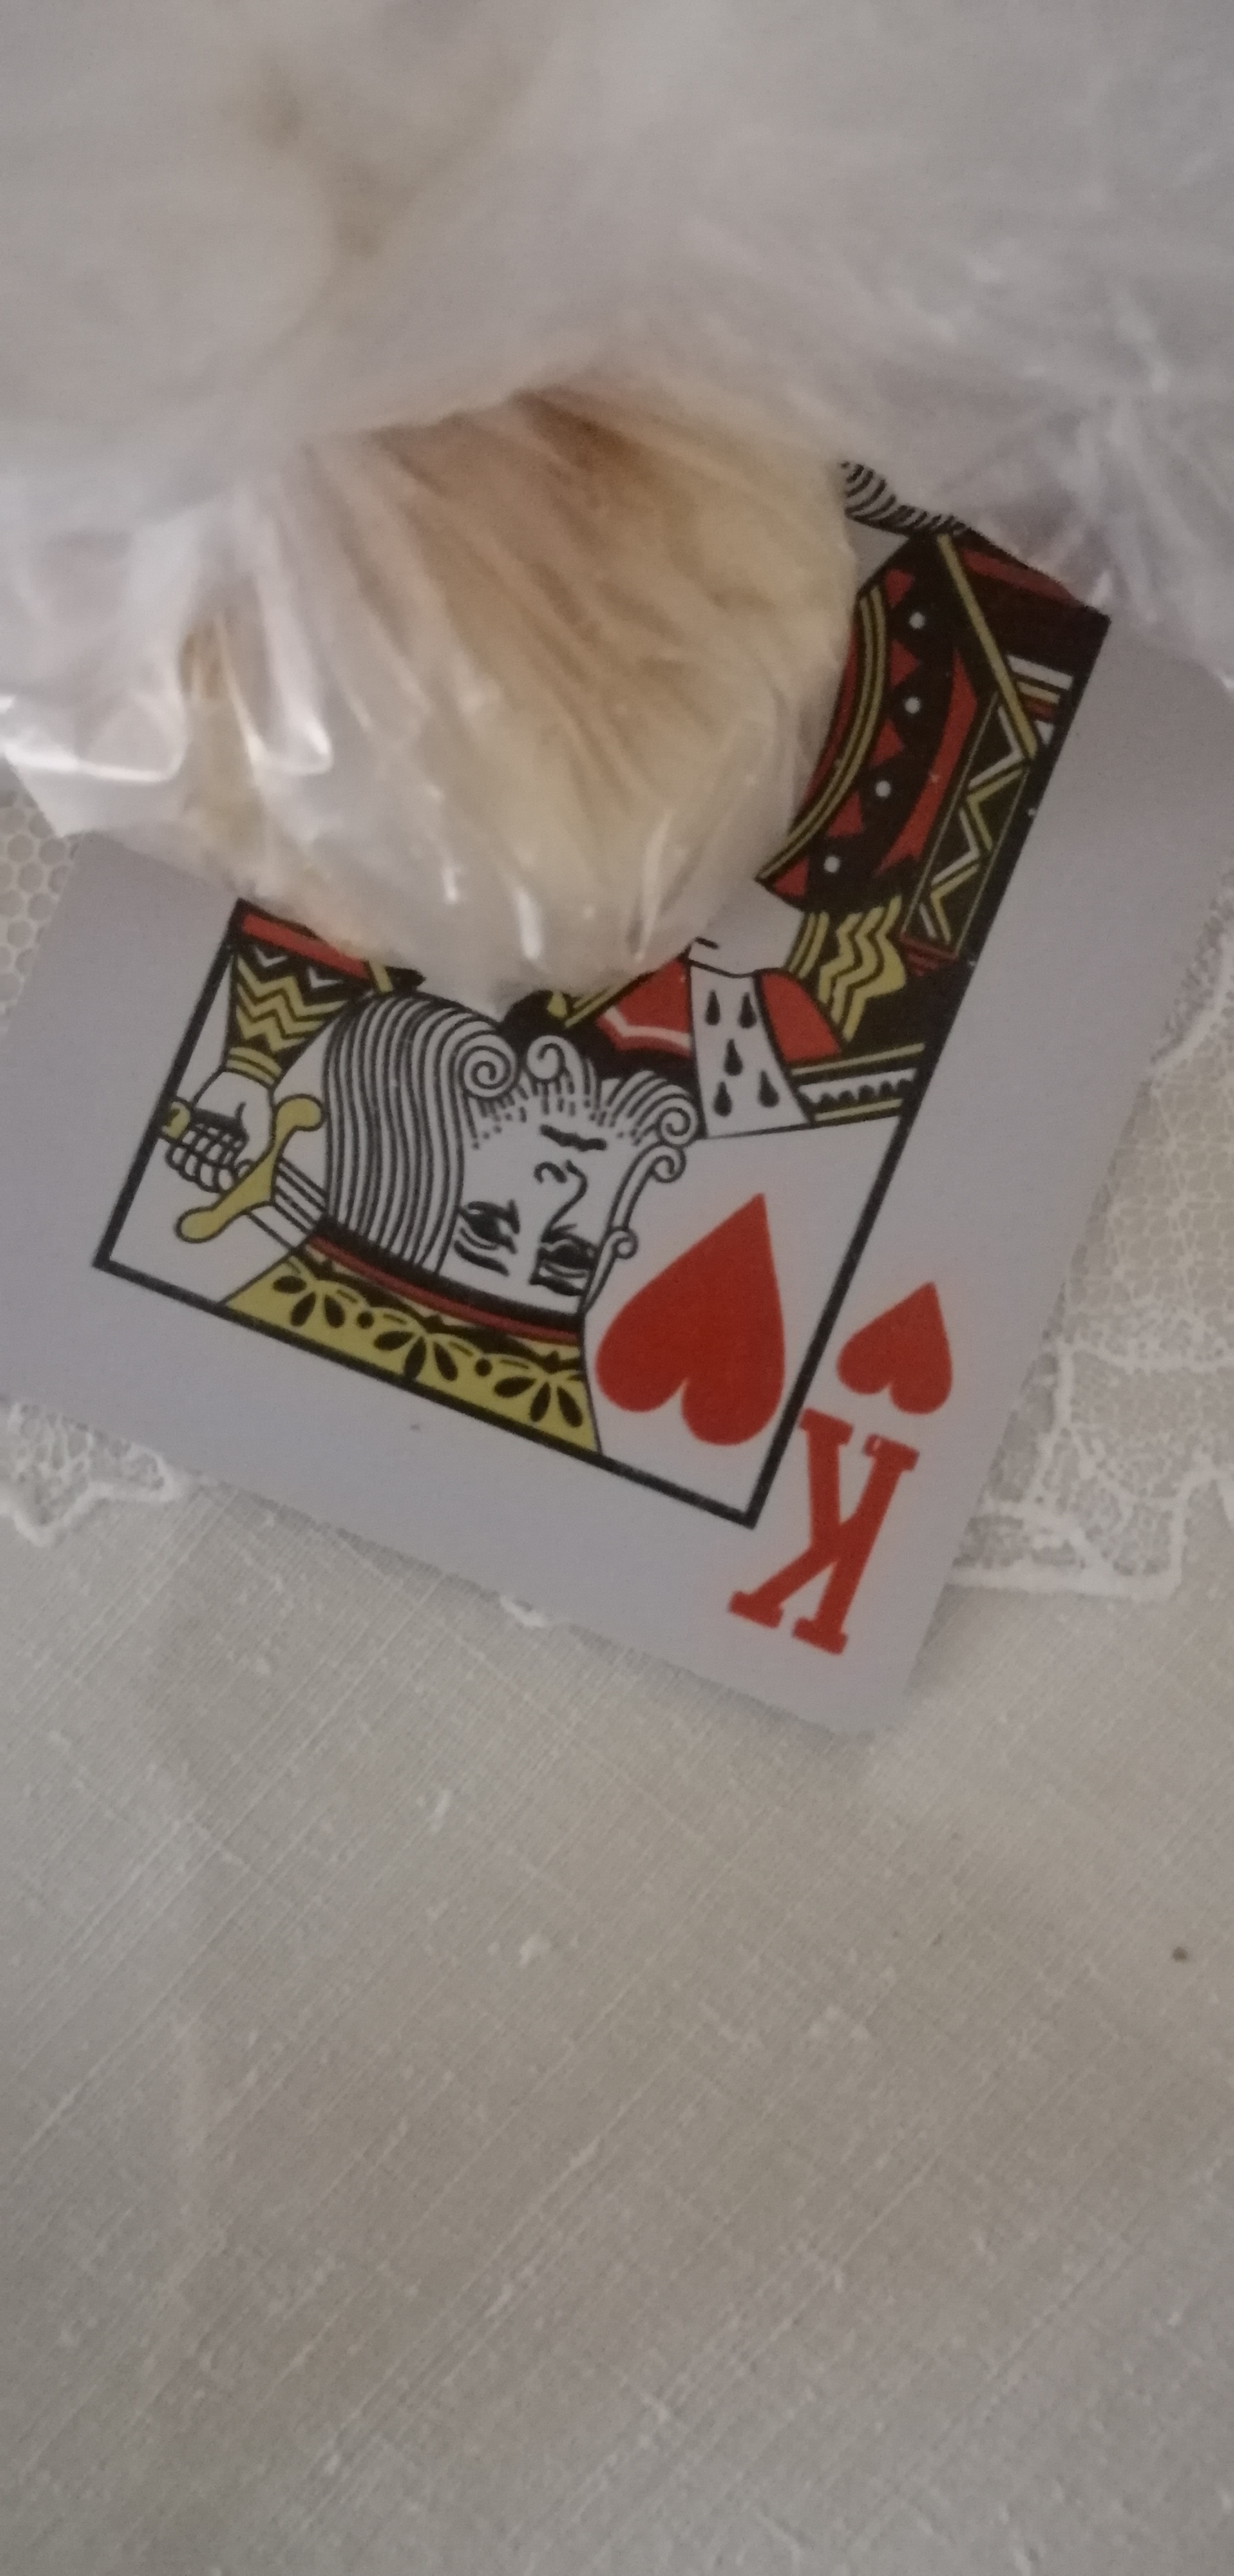king: (16, 529, 1114, 1824)
